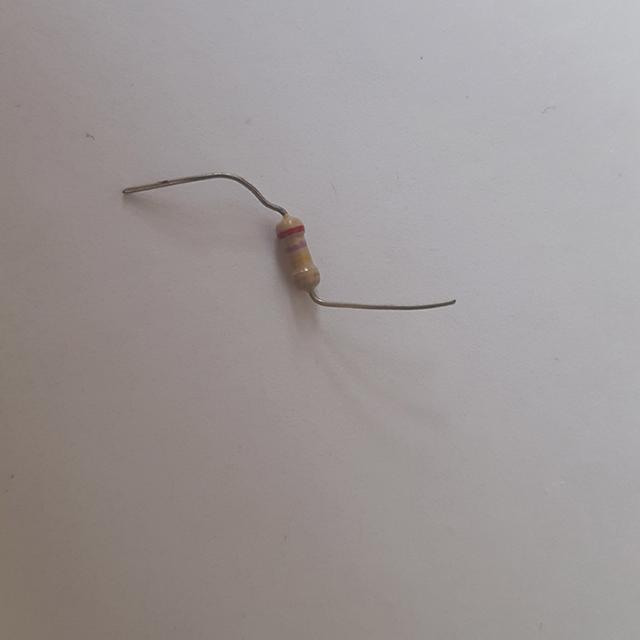gold: (291, 270, 318, 282)
red: (277, 225, 304, 238)
resistor: (261, 206, 336, 305)
violet: (285, 241, 307, 251)
yellow: (291, 254, 310, 263)
